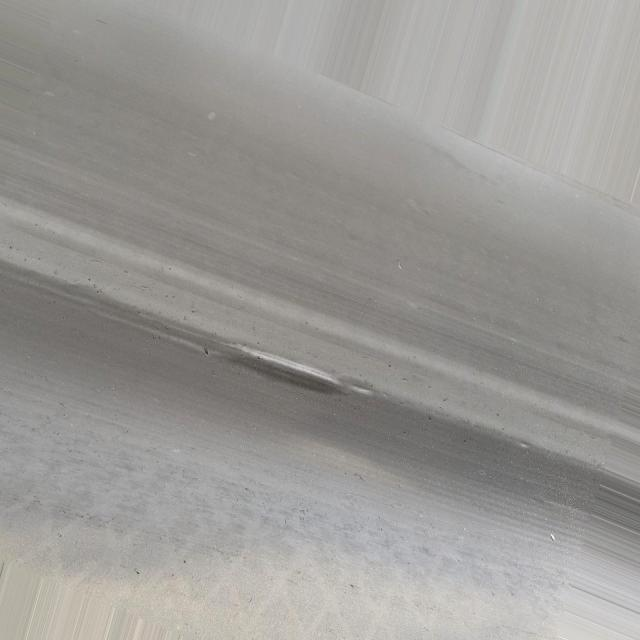Impact Damage: (222, 334, 378, 402)
